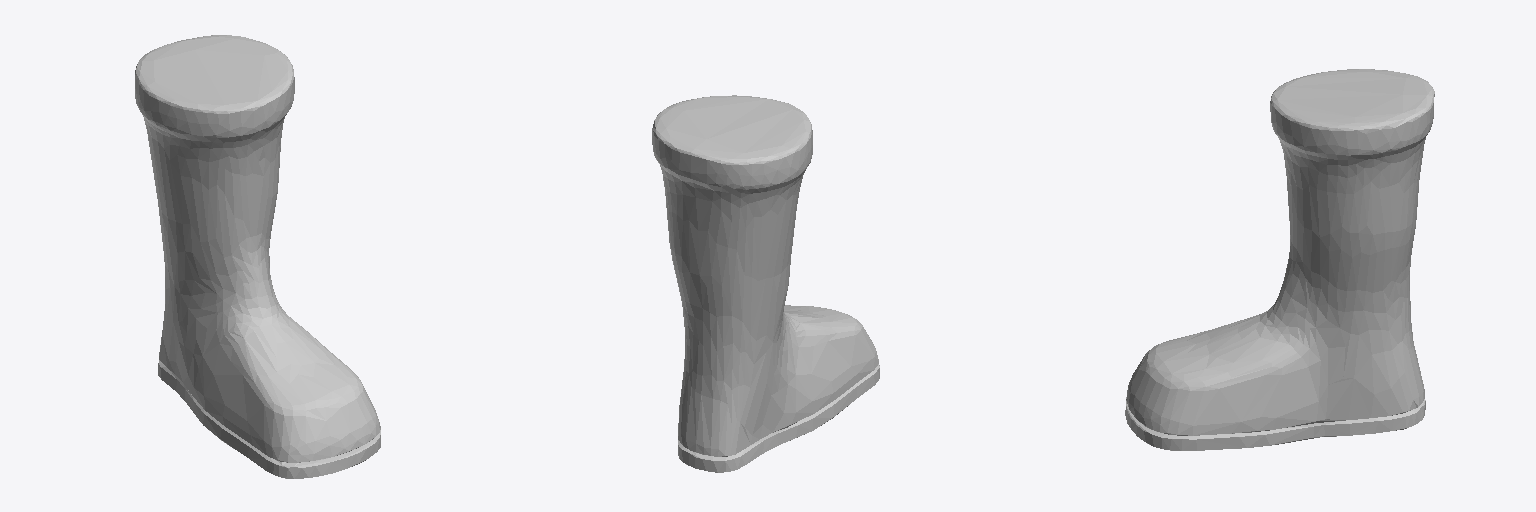
File: Thug02_boot_left.OBJ
The picture shows the model from 3 angles: view 1: azimuth 30°, elevation 25°; view 2: azimuth 150°, elevation 25°; view 3: azimuth 270°, elevation 25°; orthographic projection.
Visible parts, largest first — view 1: Group51325; view 2: Group51325; view 3: Group51325.
Part boxes in pixels (x1,y1,x2,y2): Group51325: (135, 35, 380, 478); Group51325: (652, 95, 879, 472); Group51325: (1125, 69, 1434, 450).
Size of the model in its own units: 1.84 by 4.05 by 3.49.